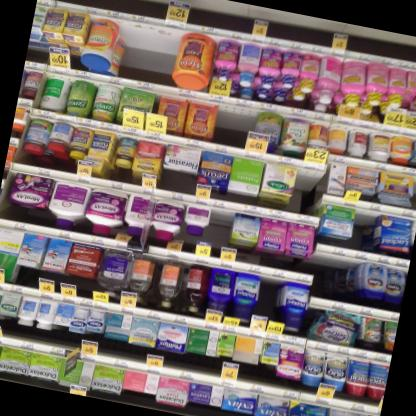empty_space: (137, 27, 180, 86), (110, 19, 148, 80), (213, 104, 255, 149), (201, 207, 234, 259), (290, 169, 326, 216), (253, 277, 283, 333), (331, 257, 364, 304), (310, 252, 341, 300), (408, 177, 416, 211)
